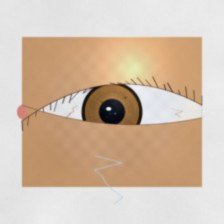foreign_body_visible: (119, 120, 154, 149)
